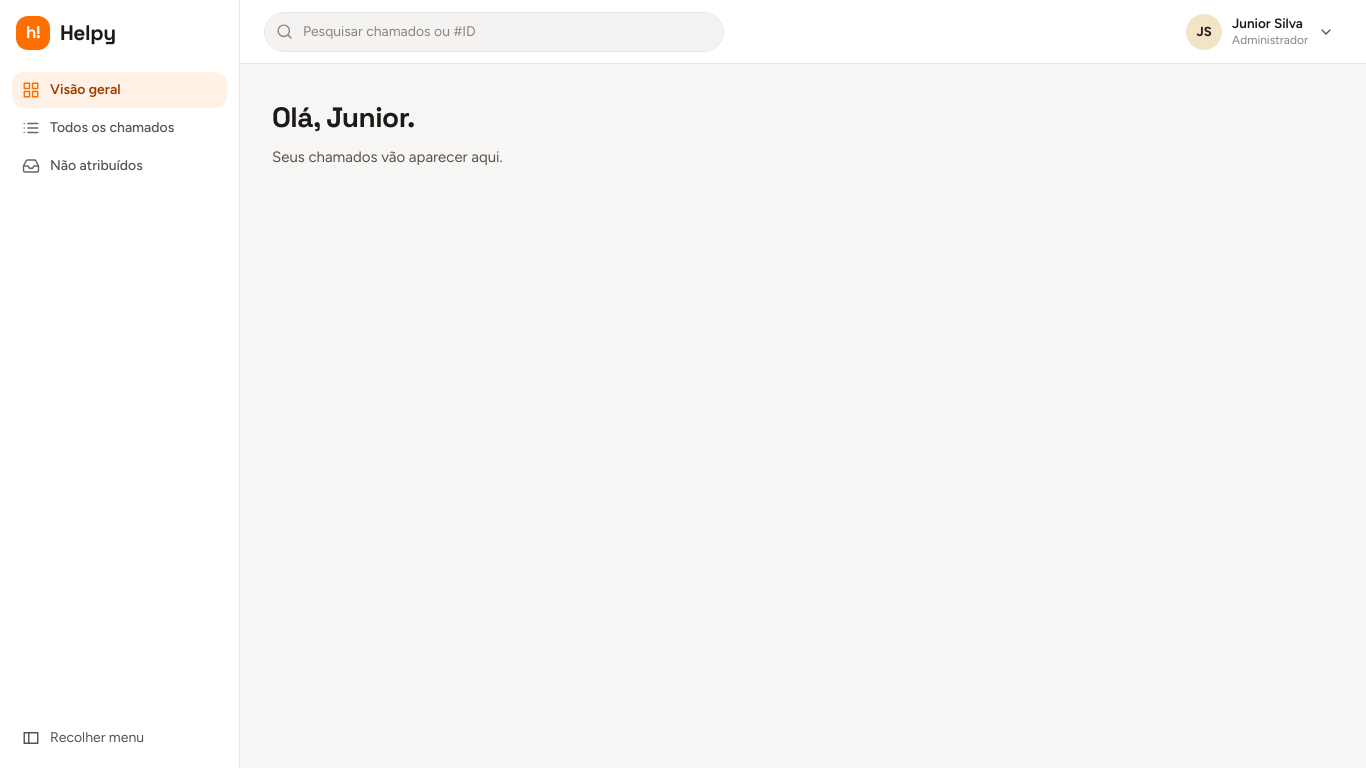
Test: header search › searches by a number
Type "4821" into the search field labelled "Pesquisar chamados" at x=494, y=32, box [264,12,724,52]
Then press Enter
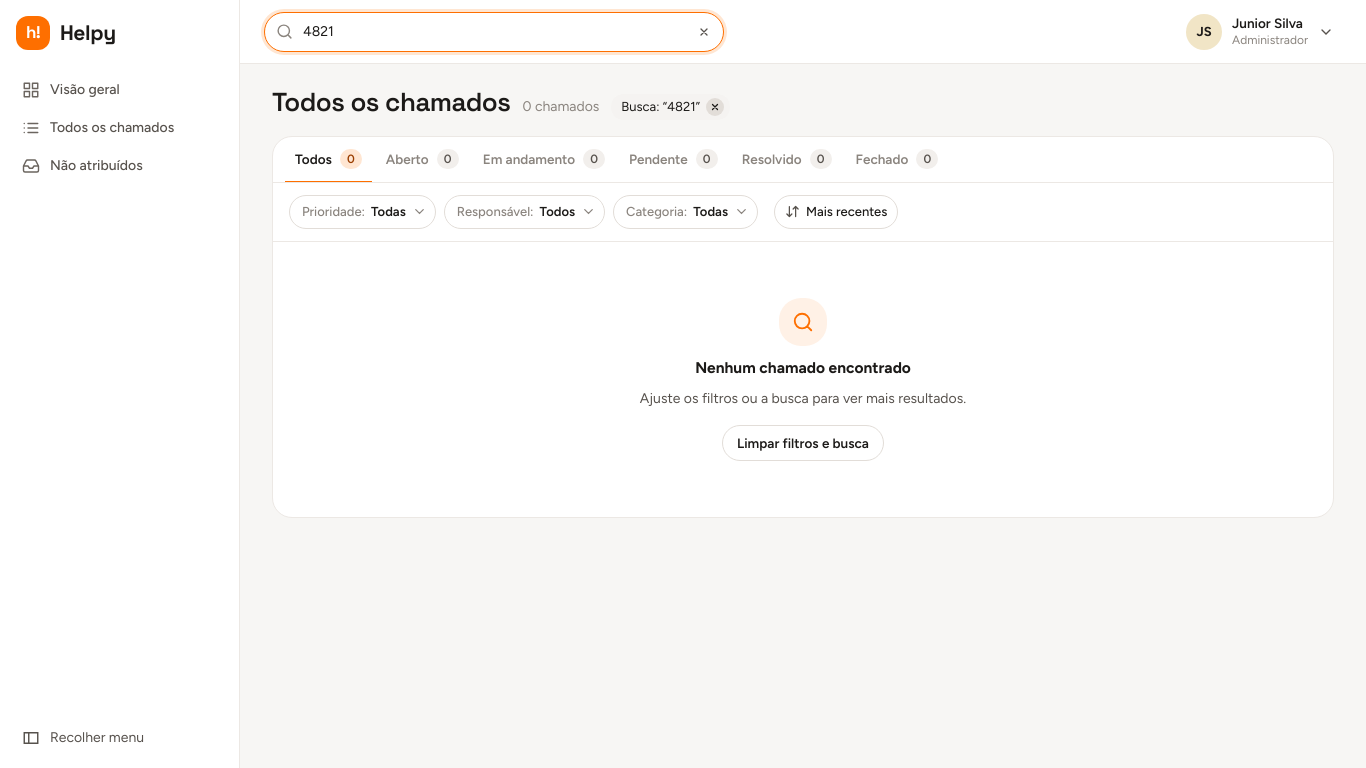
Now the heading "Todos os chamados" is shown, box [272,88,510,118]
